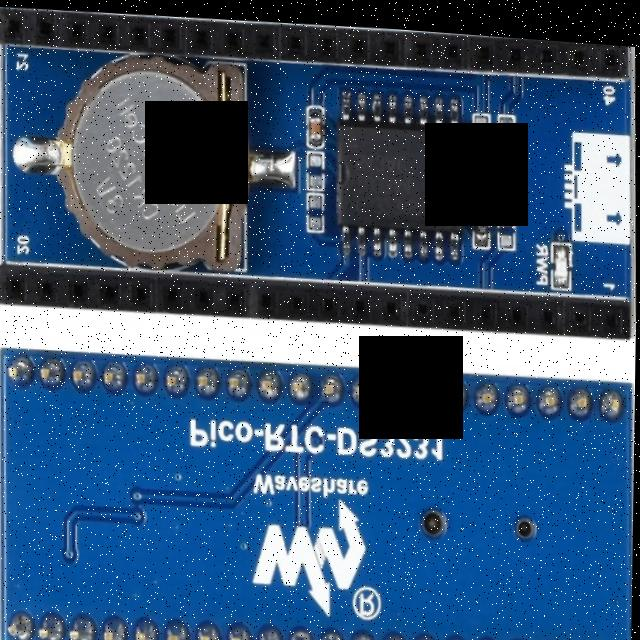IC: (333, 92, 466, 246)
LED: (548, 229, 573, 272)
battery: (15, 40, 268, 271)
capacitor 1V5: (306, 99, 325, 137)
connector -5v-: (0, 245, 632, 346), (0, 0, 623, 76)
resistor IR1: (472, 136, 494, 189), (474, 196, 492, 235)
